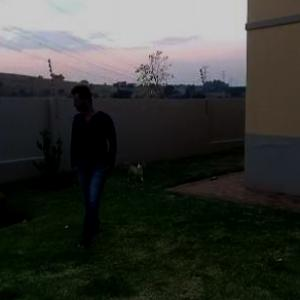follow: (77, 76, 121, 233)
